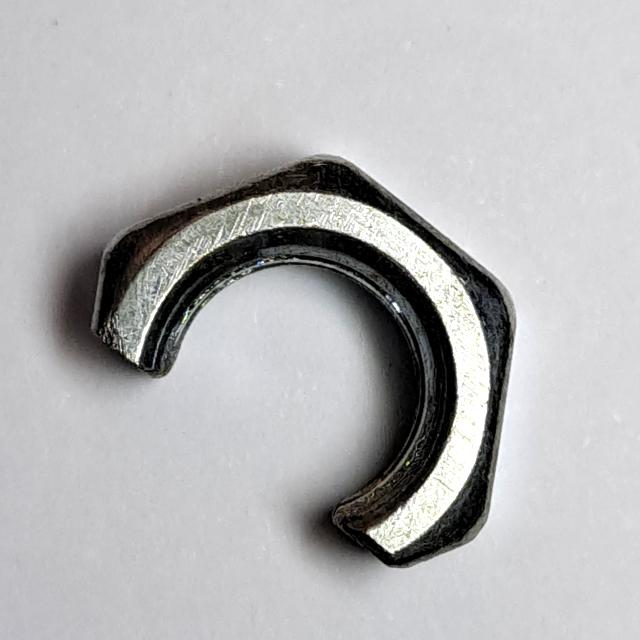Fracture: (81, 137, 527, 583)
